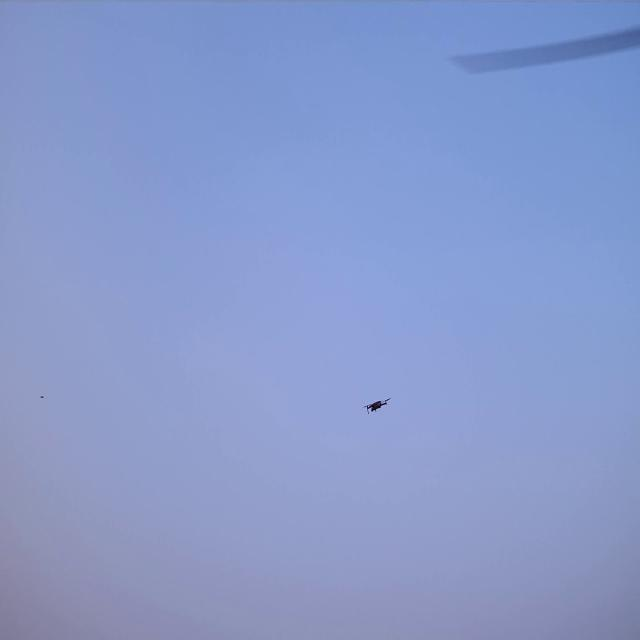UAV: (361, 394, 391, 416)
